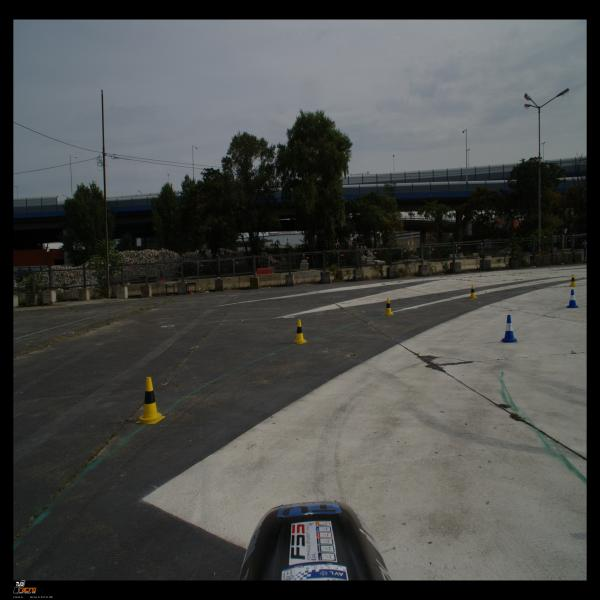blue_cone: (501, 315, 518, 342), (566, 289, 579, 308)
yellow_cone: (135, 377, 165, 424), (292, 319, 308, 344), (383, 298, 394, 315), (468, 284, 477, 298), (569, 274, 577, 287)
